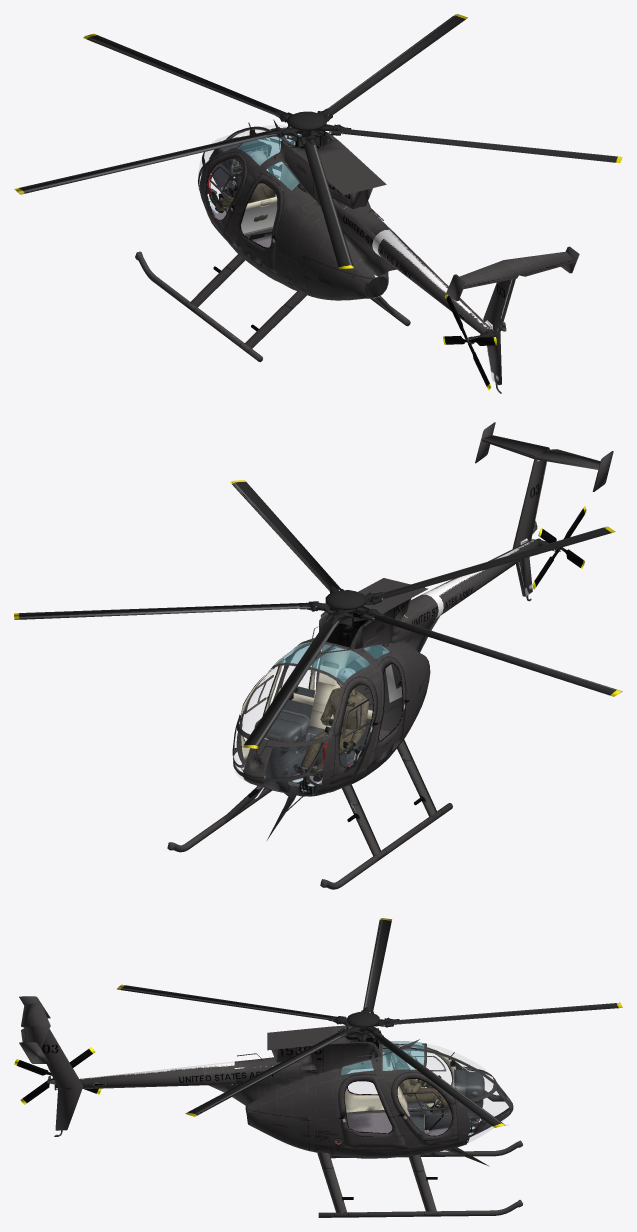
3 renders of one model, top to bottom at view 1: azimuth 30°, elevation 25°; view 2: azimuth 150°, elevation 25°; view 3: azimuth 270°, elevation 25°, orthographic. The views are drawn at different scales.
Parts seen in each view (by area): view 1: ext_fuse1, rotor_main, ext_fuse1_doors, ext_skids, glasss_grn, int_seats2, int_pilotR, int_console, rotor_tail, int_fuse2; view 2: ext_fuse1, rotor_main, ext_fuse1_doors, ext_skids, int_pilotR, int_console, ext_fuse1.001, glasss_grn, int_fuse3, int_seats2, glass, int_fuse2 (+1 smaller); view 3: ext_fuse1, rotor_main, ext_fuse1_doors, ext_skids, glass, int_console, glasss_grn, int_pilotR, int_fuse4, rotor_tail, int_fuse2, int_fuse3 (+1 smaller).
Part boxes in pixels (x1=…): ext_fuse1: x1=198, y1=119, x2=579, y2=393; rotor_main: x1=14, y1=14, x2=622, y2=269; ext_fuse1_doors: x1=204, y1=152, x2=283, y2=273; ext_skids: x1=135, y1=251, x2=410, y2=362; glasss_grn: x1=238, y1=128, x2=301, y2=190; int_seats2: x1=233, y1=196, x2=277, y2=239; int_pilotR: x1=209, y1=150, x2=277, y2=221; int_console: x1=206, y1=139, x2=271, y2=194; rotor_tail: x1=443, y1=294, x2=497, y2=390; int_fuse2: x1=198, y1=128, x2=285, y2=197; ext_fuse1: x1=233, y1=422, x2=613, y2=840; rotor_main: x1=14, y1=480, x2=622, y2=748; ext_fuse1_doors: x1=239, y1=642, x2=409, y2=783; ext_skids: x1=167, y1=739, x2=452, y2=889; int_pilotR: x1=293, y1=668, x2=369, y2=781; int_console: x1=254, y1=709, x2=326, y2=791; ext_fuse1.001: x1=236, y1=642, x2=402, y2=791; glasss_grn: x1=274, y1=638, x2=389, y2=682; int_fuse3: x1=309, y1=644, x2=370, y2=729; int_seats2: x1=278, y1=686, x2=372, y2=767; glass: x1=234, y1=666, x2=310, y2=781; int_fuse2: x1=232, y1=646, x2=341, y2=796; ext_fuse1: x1=19, y1=996, x2=513, y2=1166; rotor_main: x1=117, y1=918, x2=622, y2=1127; ext_fuse1_doors: x1=338, y1=1043, x2=458, y2=1149; ext_skids: x1=317, y1=1140, x2=522, y2=1217; glass: x1=348, y1=1044, x2=508, y2=1143; int_console: x1=424, y1=1069, x2=484, y2=1132; glasss_grn: x1=341, y1=1041, x2=424, y2=1074; int_pilotR: x1=394, y1=1043, x2=449, y2=1108; int_fuse4: x1=346, y1=1112, x2=448, y2=1135; rotor_tail: x1=14, y1=1047, x2=101, y2=1104; int_fuse2: x1=382, y1=1043, x2=511, y2=1136; int_fuse3: x1=341, y1=1048, x2=409, y2=1116.
Size of the model in its own units: 7.48 by 2.89 by 9.2.
Materials: 12 (12 with a texture image).
